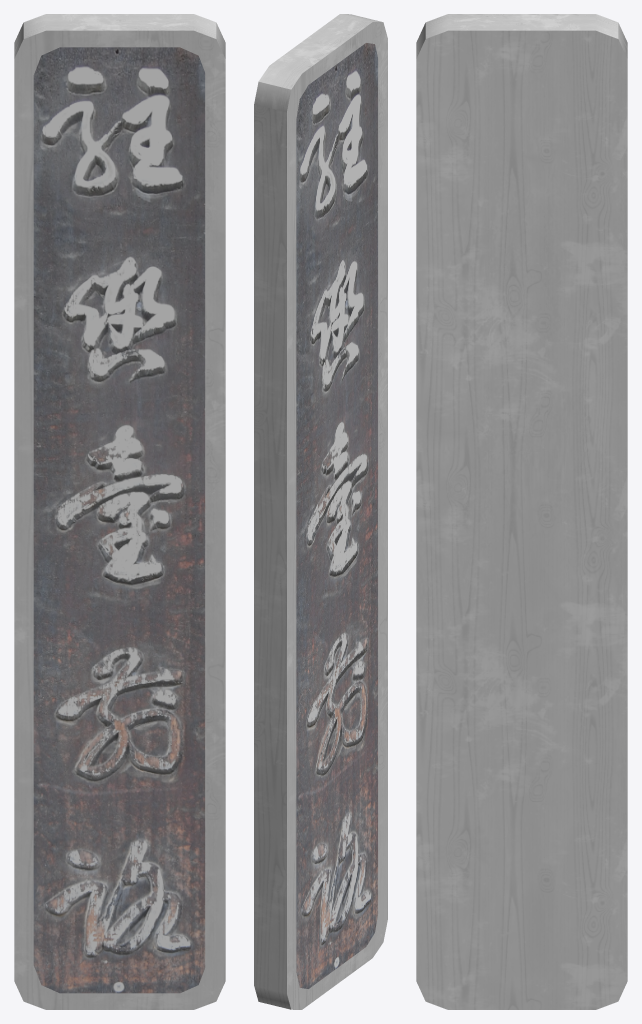
Rendered from SM_R_Yuyotaek4.fbx.
3 renders of one model, left to right at view 1: azimuth 90°, elevation 25°; view 2: azimuth 150°, elevation 25°; view 3: azimuth 270°, elevation 25°, orthographic. The views are drawn at different scales.
Parts seen in each view (by area): view 1: SM_R_Yuyotaek4; view 2: SM_R_Yuyotaek4; view 3: SM_R_Yuyotaek4.
Part boxes in pixels (<box>): SM_R_Yuyotaek4: <box>14,14,225,1009</box>; SM_R_Yuyotaek4: <box>254,14,387,1009</box>; SM_R_Yuyotaek4: <box>416,14,627,1009</box>.
Bounding box in the file's own units: 3.97 × 21.22 × 108.
Materials: 1 (1 with a texture image).
